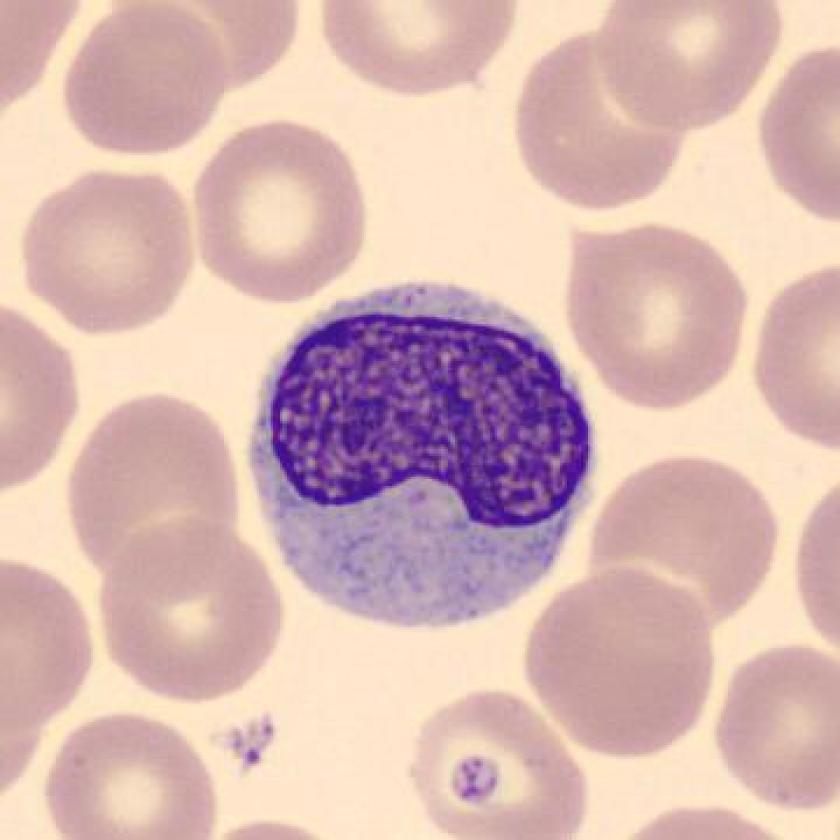monocyte: (234, 265, 610, 644)
